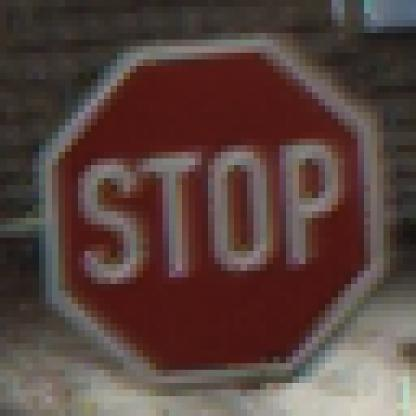stop: (27, 40, 387, 374)
